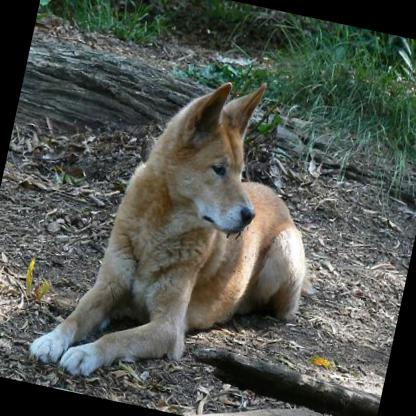dingo: (20, 40, 344, 416)
